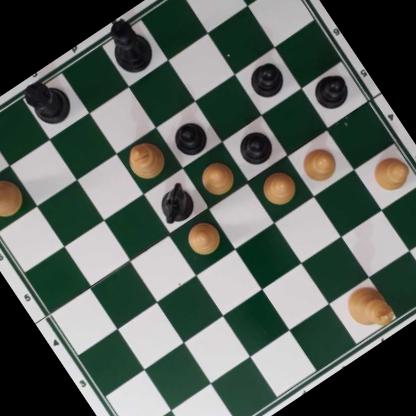black-king: (97, 12, 161, 81)
black-knight: (150, 178, 201, 229)
black-pawn: (307, 68, 355, 116), (166, 115, 213, 162), (243, 56, 289, 103), (232, 124, 278, 171)
black-rook: (18, 72, 76, 130)
white-bishop: (119, 133, 172, 188)
white-king: (338, 278, 397, 339)
white-pawn: (294, 140, 342, 189), (192, 154, 240, 202), (366, 150, 415, 197), (255, 165, 302, 212), (181, 217, 225, 261)
white-rook: (0, 169, 27, 227)
